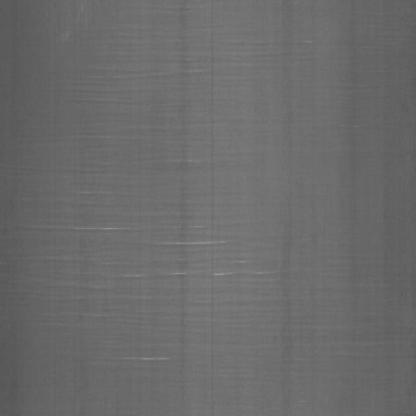waist_folding: (37, 94, 244, 398)
